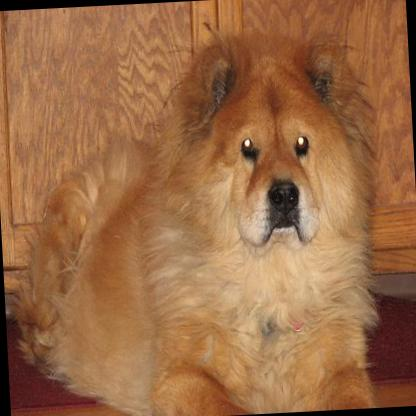chow: (0, 22, 395, 416)
